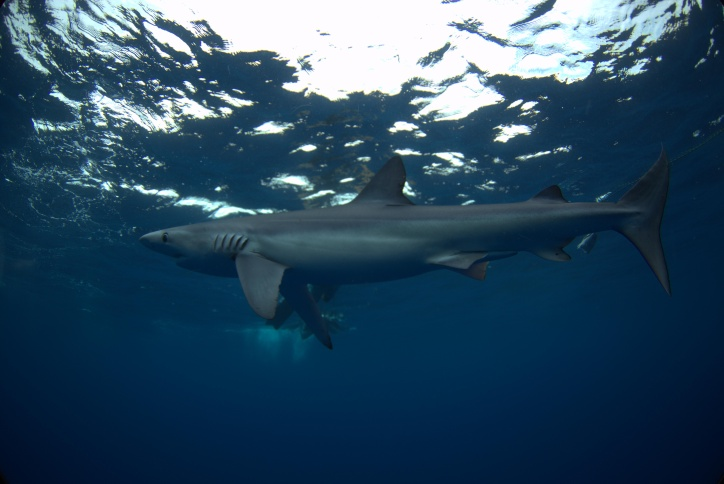Azul: (128, 122, 705, 348)
